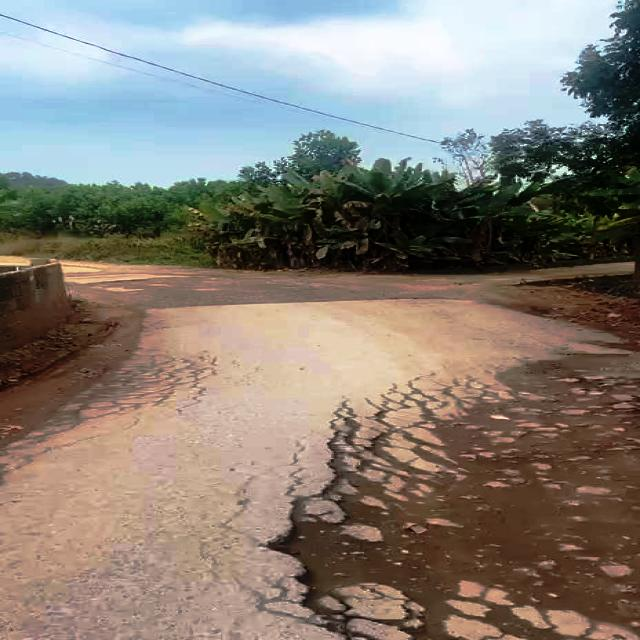pothole: (259, 350, 640, 640)
